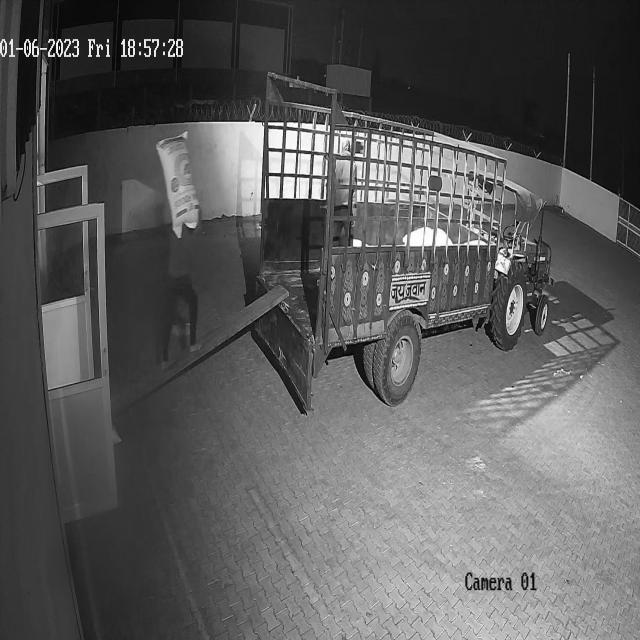sack: (156, 129, 200, 238)
